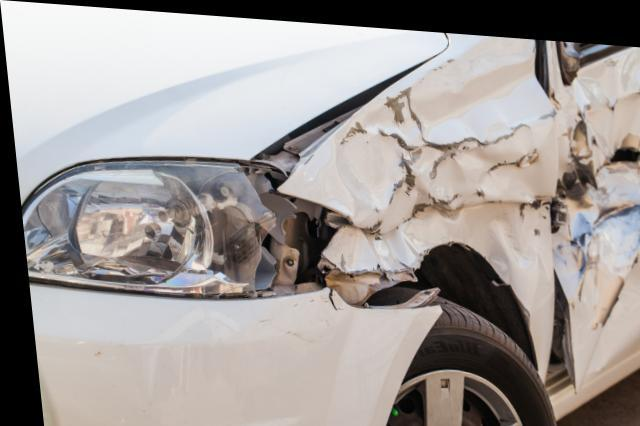crack: (591, 136, 640, 167), (323, 285, 339, 306)
dent: (301, 28, 561, 311), (546, 42, 640, 358)
dislocated part: (23, 263, 441, 426)
lamp broken: (17, 157, 298, 296)
